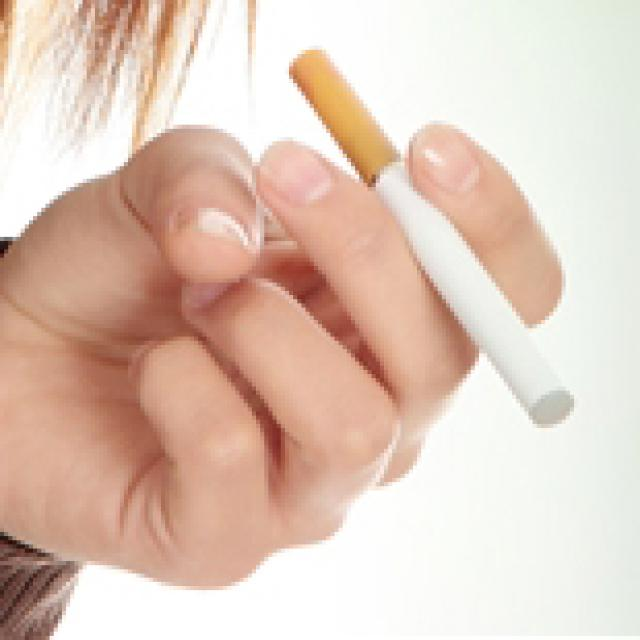smoking: (292, 45, 573, 428)
